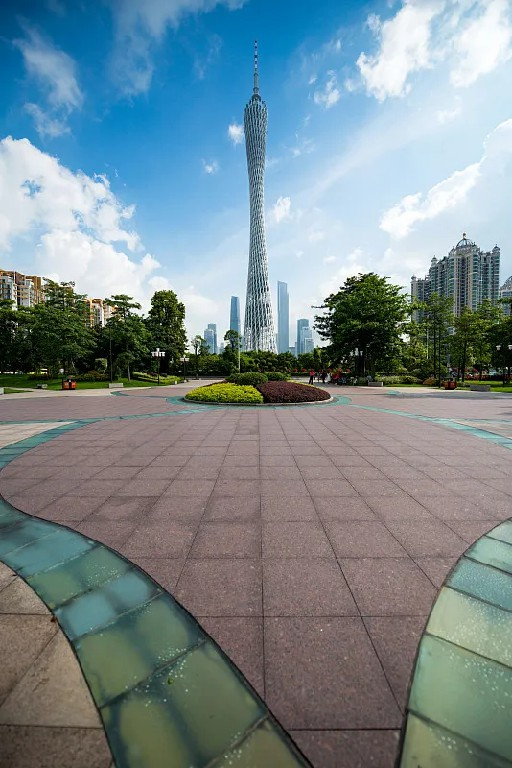Canton: (240, 40, 278, 356)
